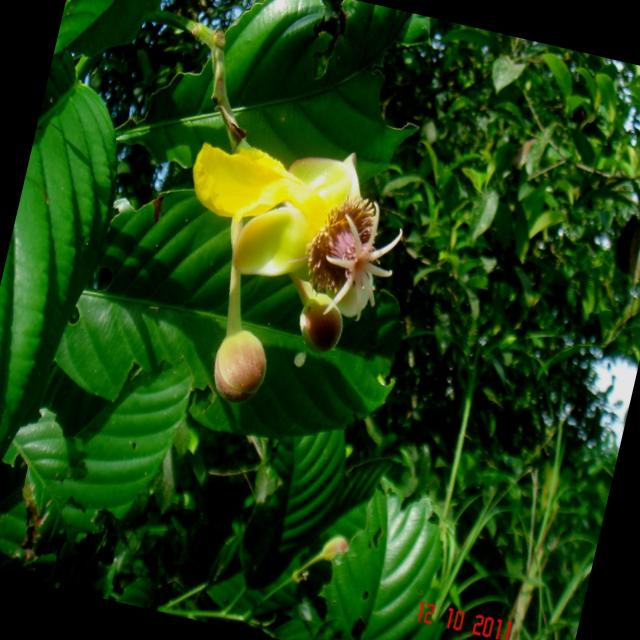Simpoh-Lak: (92, 12, 450, 442)
